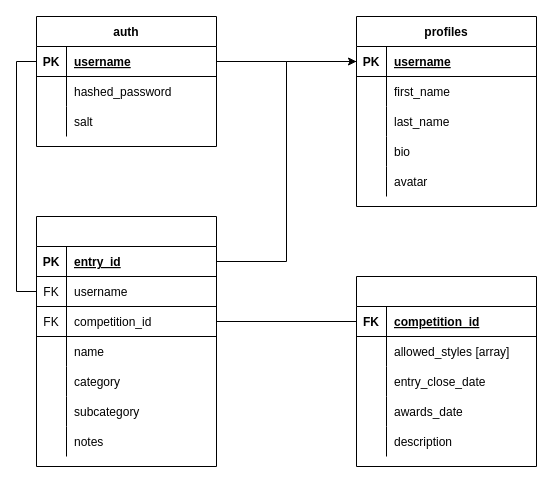
The diagram is 553 pixels wide and 483 high, and some of its shapes have lost their labels. The shapes that lost their labels are listed below. From the top down, each one's box as (x1, y1, x2, y2) in pixels, then its label:
(36, 216, 216, 466): entries
(356, 276, 536, 466): comps
